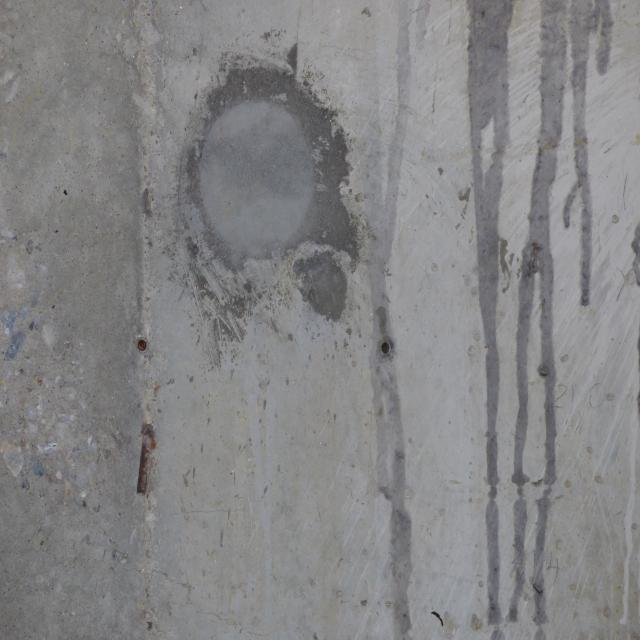corrosion: (129, 328, 164, 504)
